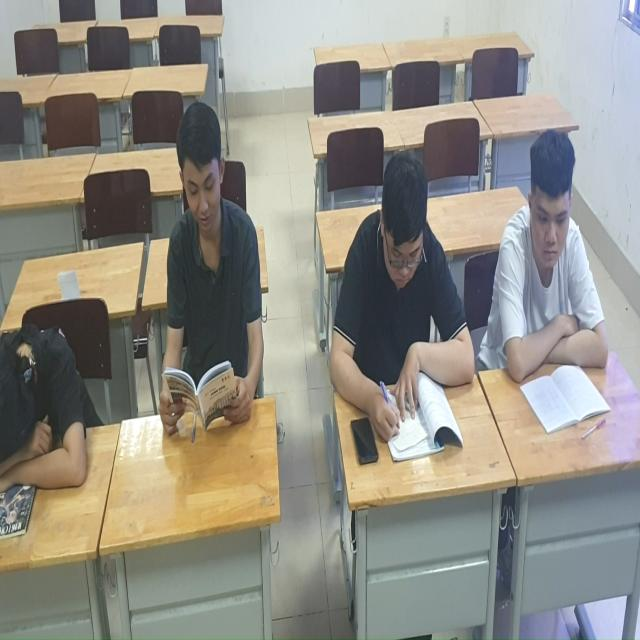read: (151, 100, 272, 479), (330, 150, 477, 457), (496, 121, 613, 428)
sleep: (1, 317, 94, 494)
